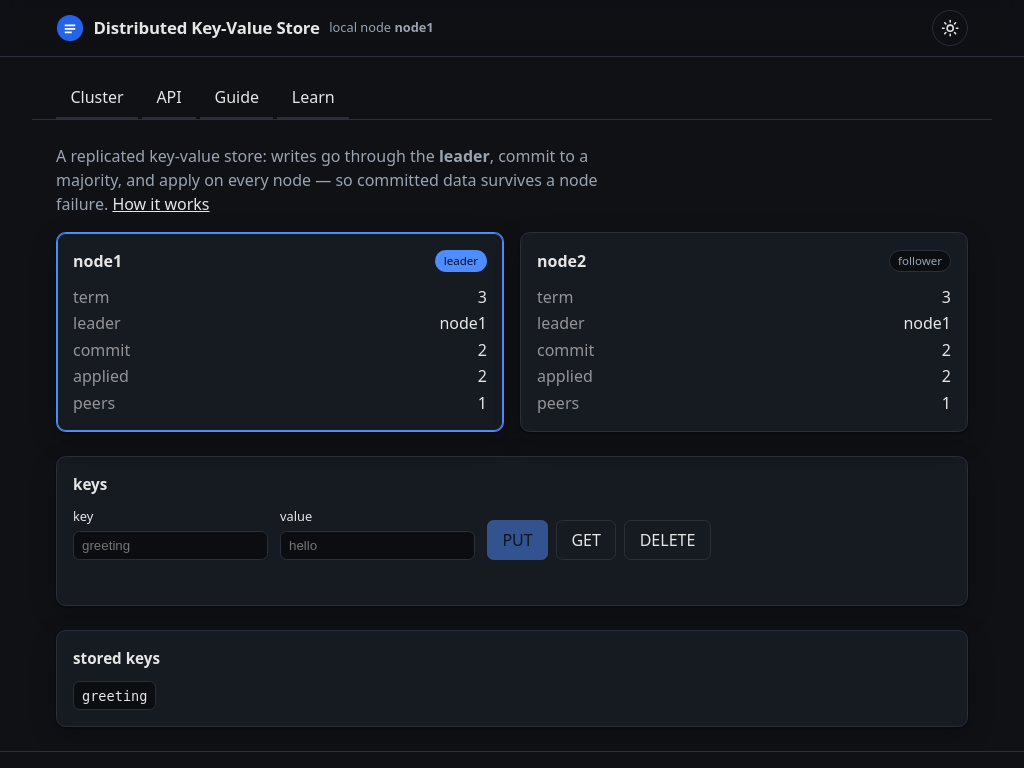
Scenario: App › switches between the cluster and API tabs
The width and height of the screenshot is (1024, 768).
Expected: the heading "node1" is shown, top-left (73, 249), bottom-right (122, 273)
Click the button "API" at (169, 98), box top-left (142, 77), bottom-right (196, 119)
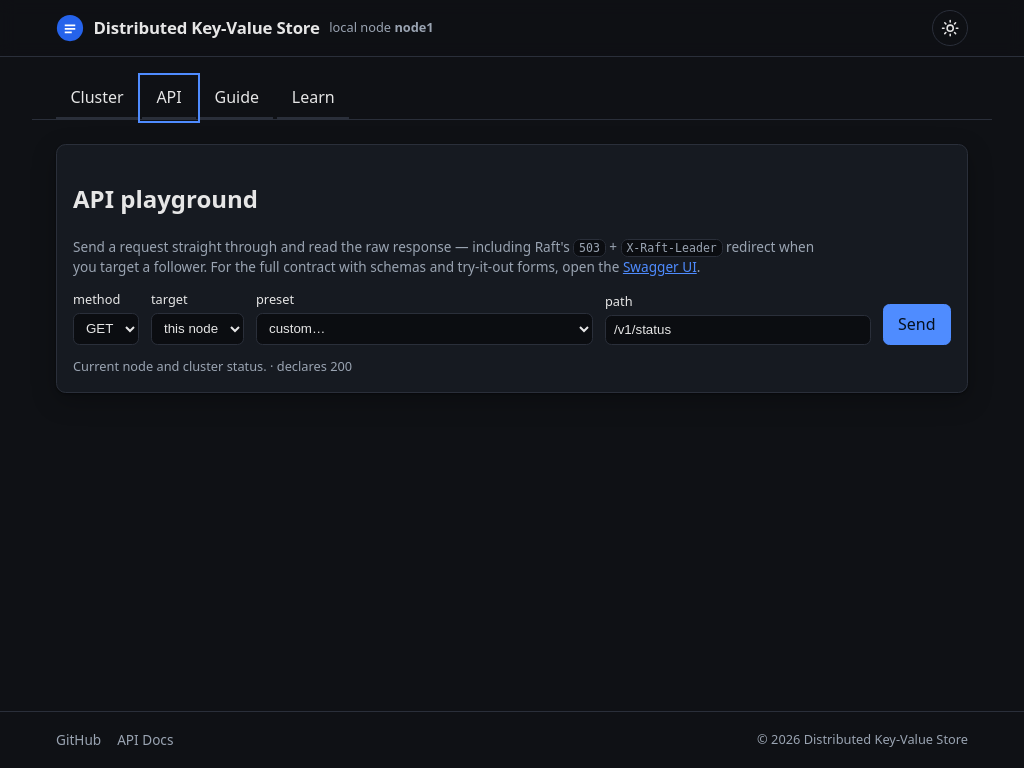
Expected: the heading "API playground" is shown, top-left (73, 182), bottom-right (258, 215)
Click the button "Cluster" at (97, 98), box top-left (56, 77), bottom-right (138, 119)
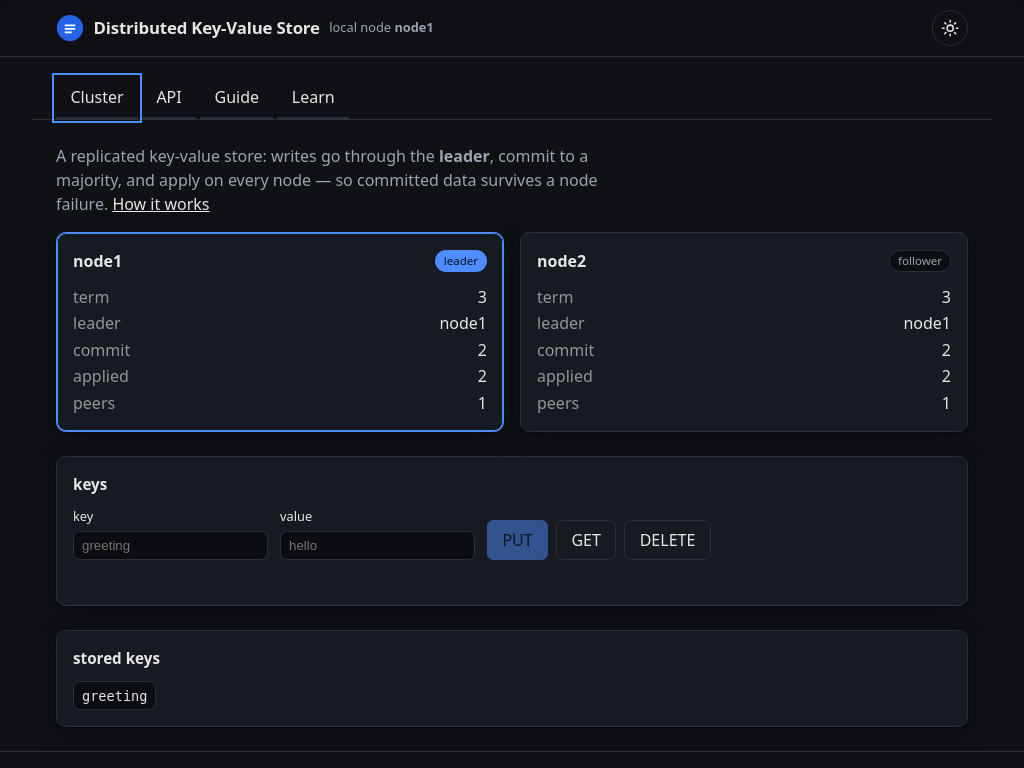
Expected: the heading "node1" is shown, top-left (73, 249), bottom-right (122, 273)
